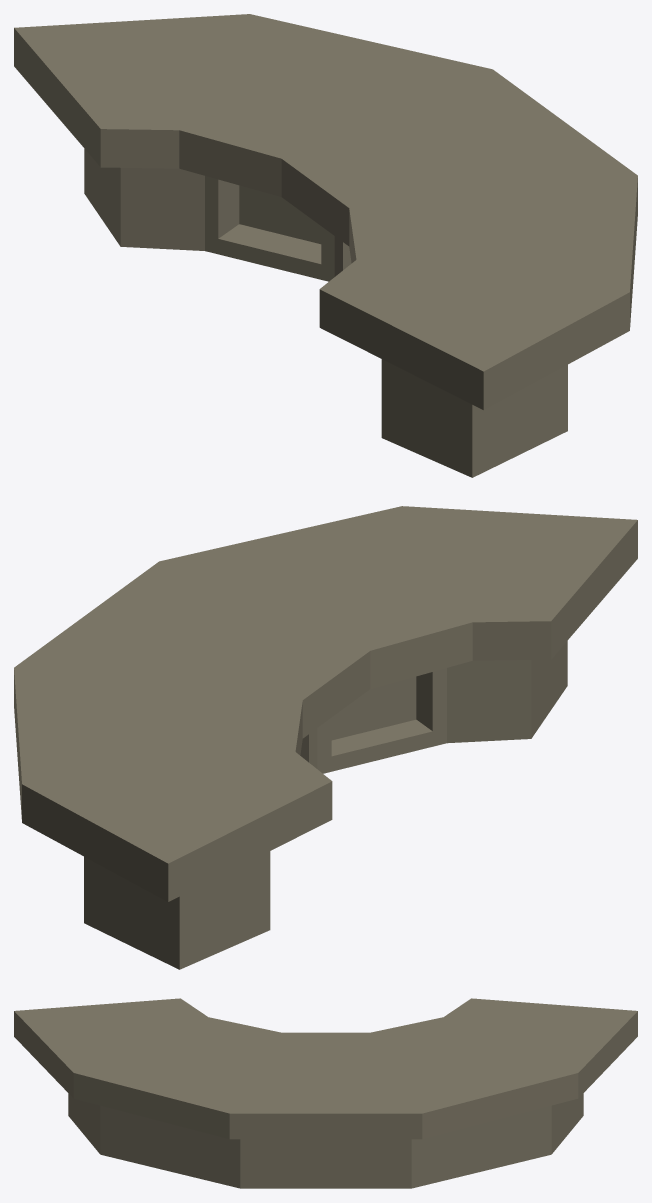
Rendered from table.fbx.
3 views of the same model, one above another, from view 1: azimuth 30°, elevation 25°; view 2: azimuth 150°, elevation 25°; view 3: azimuth 270°, elevation 25° (orthographic). The views are drawn at different scales.
Parts seen in each view (by area): view 1: pCylinder1; view 2: pCylinder1; view 3: pCylinder1.
Part boxes in pixels (box(x1,y1,x2,y2)): pCylinder1: box(14, 14, 637, 477); pCylinder1: box(14, 506, 637, 969); pCylinder1: box(14, 998, 637, 1188).
Size of the model in its own units: 2.31 by 0.8908 by 5.28.
